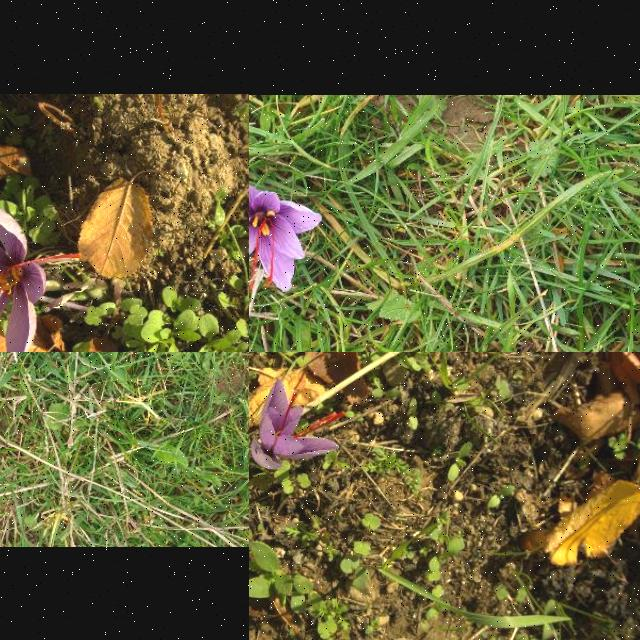flower: (0, 205, 82, 352), (250, 380, 346, 470), (249, 184, 322, 293)
